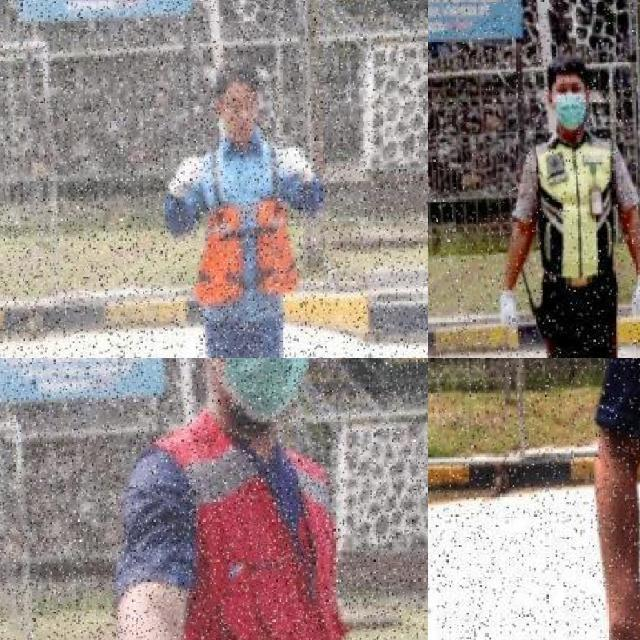apron: (166, 154, 210, 202), (276, 142, 316, 190), (496, 288, 522, 336), (628, 272, 640, 317)
